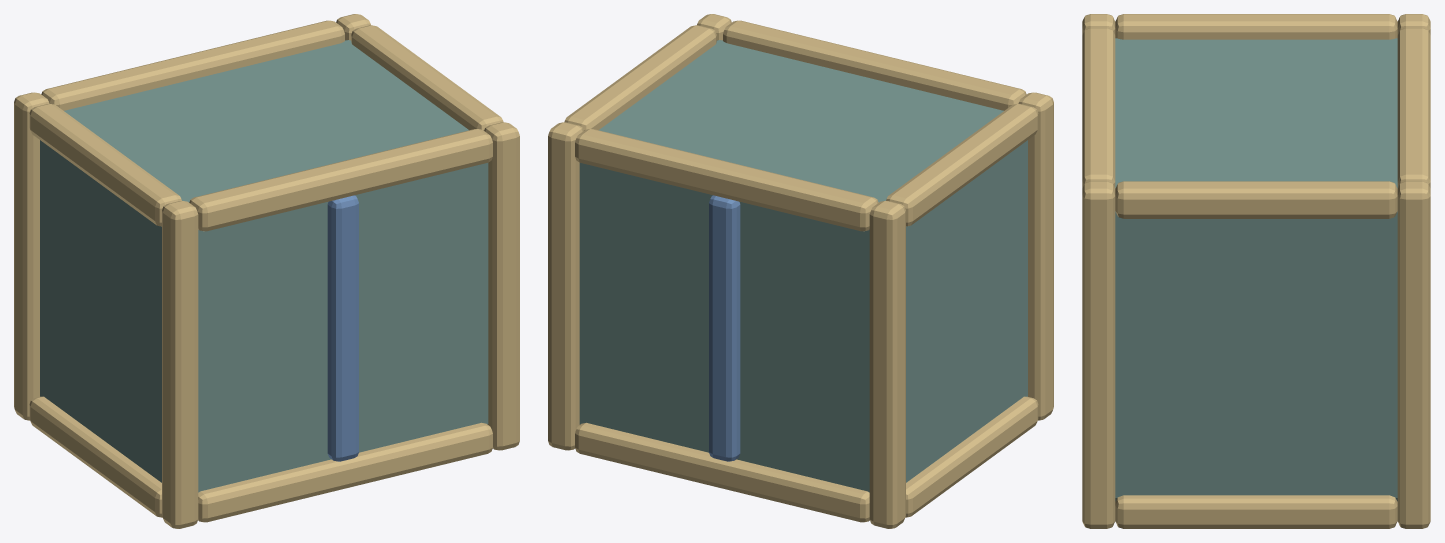
3 renders of one model, left to right at view 1: azimuth 30°, elevation 25°; view 2: azimuth 150°, elevation 25°; view 3: azimuth 270°, elevation 25°, orthographic. The views are drawn at different scales.
Parts seen in each view (by area): view 1: Workshop storage crate; view 2: Workshop storage crate; view 3: Workshop storage crate.
Part boxes in pixels (x1,y1,x2,y2): Workshop storage crate: [14, 14, 519, 528]; Workshop storage crate: [548, 14, 1053, 528]; Workshop storage crate: [1082, 14, 1430, 528].
Bounding box in the file's own units: 0.8 × 0.7 × 0.65.
